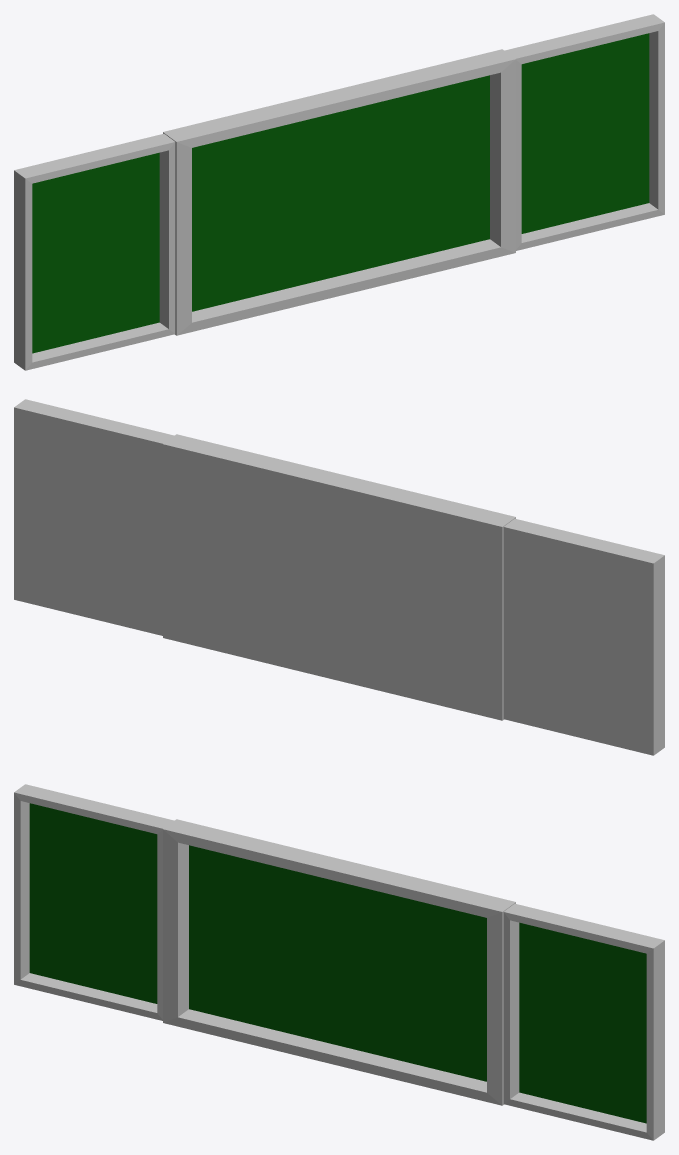
The picture shows the model from 3 angles, top to bottom: view 1: azimuth 30°, elevation 25°; view 2: azimuth 150°, elevation 25°; view 3: azimuth 330°, elevation 25°; orthographic projection.
Visible parts, largest first — view 1: Cube.024; view 2: Cube.024; view 3: Cube.024.
Part boxes in pixels (x1,y1,x2,y2): Cube.024: (14,14,664,370); Cube.024: (14,399,664,755); Cube.024: (14,784,664,1140).
Bounding box in the file's own units: 3201 × 927 × 120.
